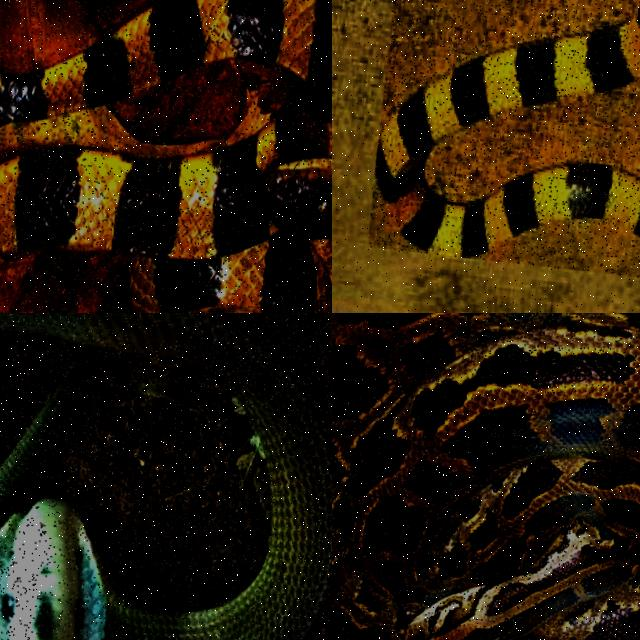Bungarus fasciatus: (0, 0, 331, 312), (375, 5, 639, 257)
Naja siamensis: (0, 313, 331, 639)
Python bivittatus: (332, 313, 639, 639)
